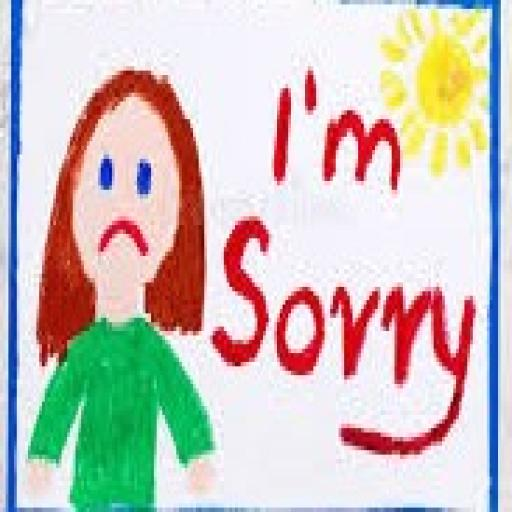person: (18, 67, 214, 507)
